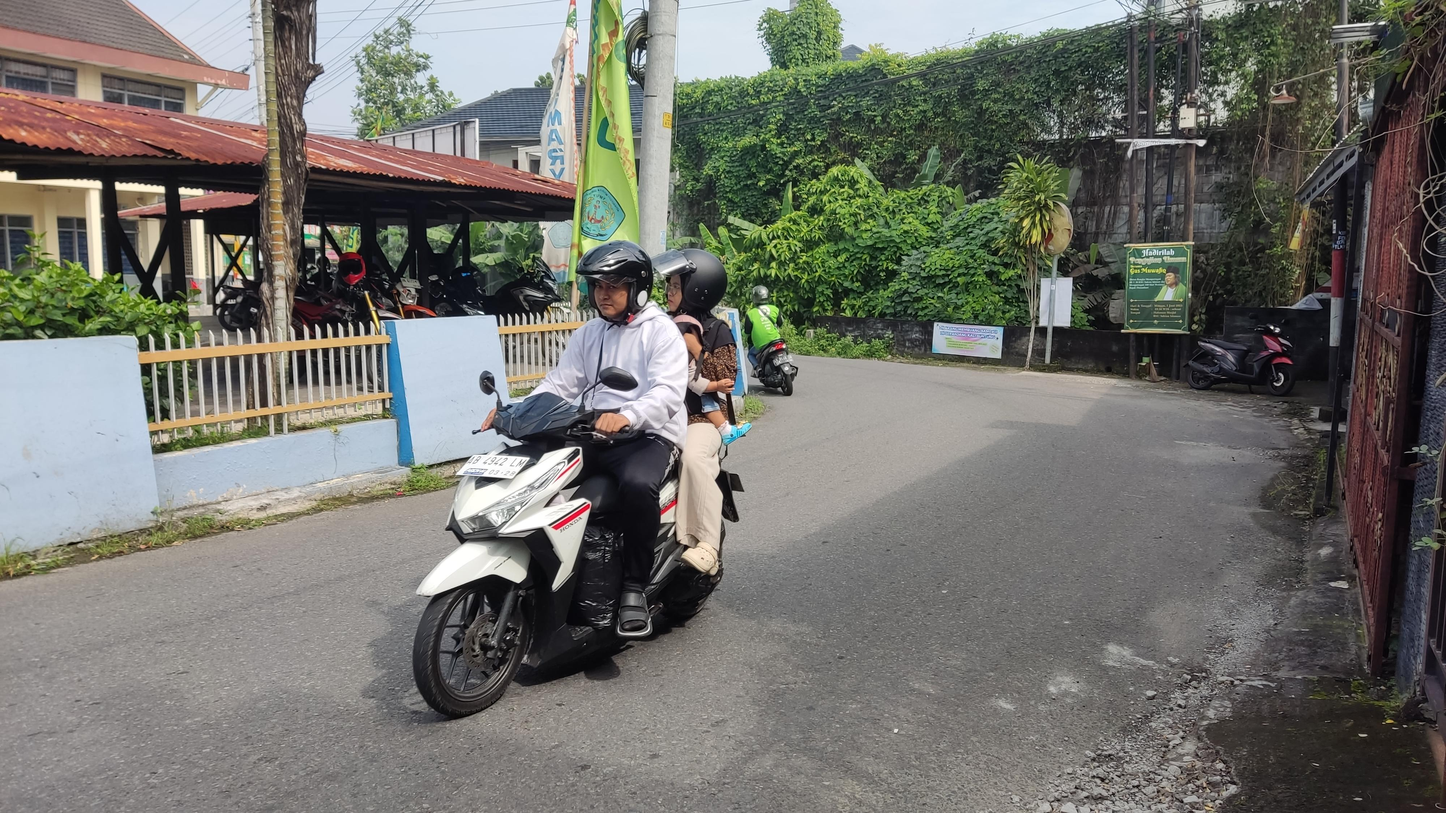helm: (575, 240, 655, 326), (649, 246, 730, 315)
riding: (411, 239, 747, 720)
